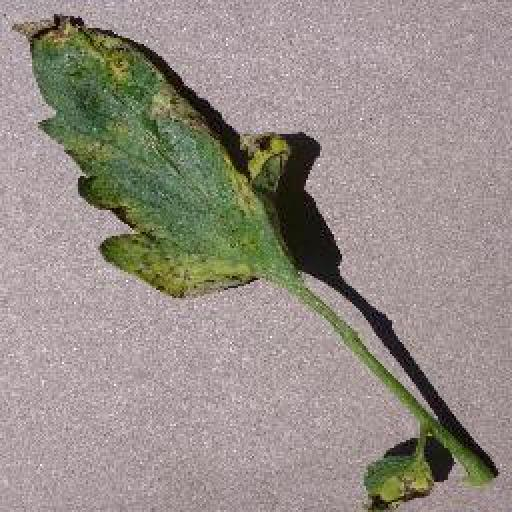disease_tomato: (14, 12, 308, 298)
